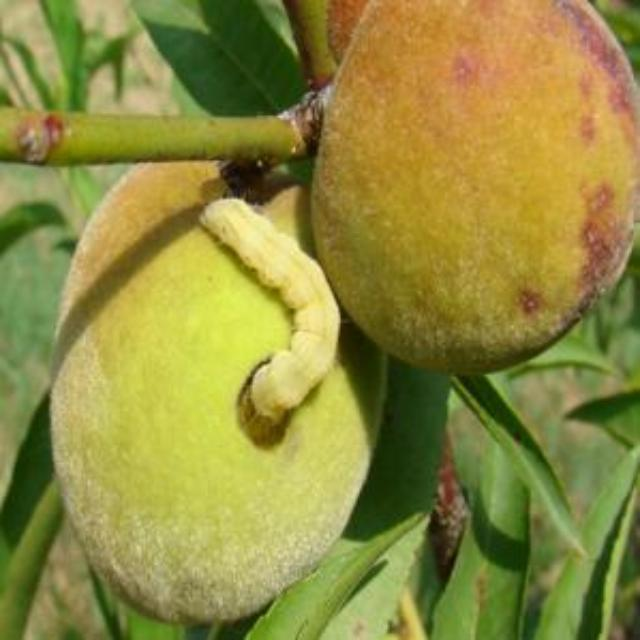Cotton bollworm: (177, 176, 371, 456)
